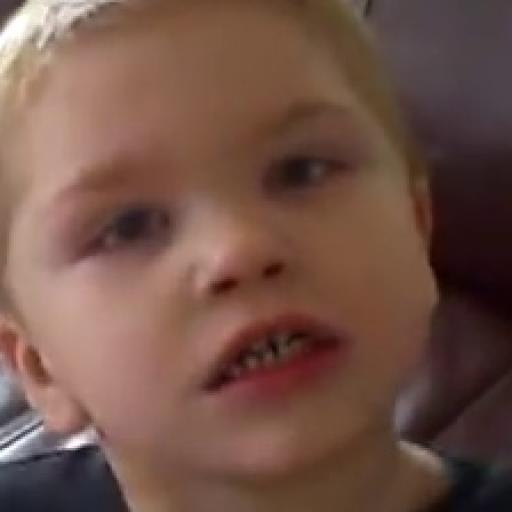Autism: (23, 4, 447, 512)
